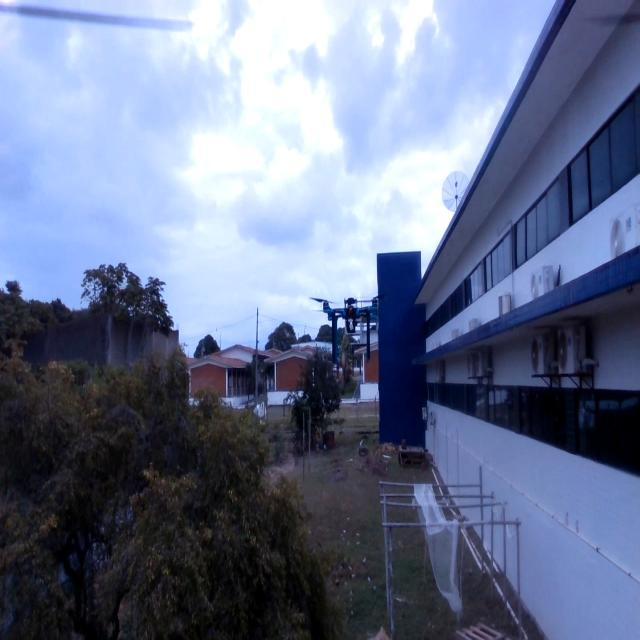-uav-: (308, 284, 391, 374)
